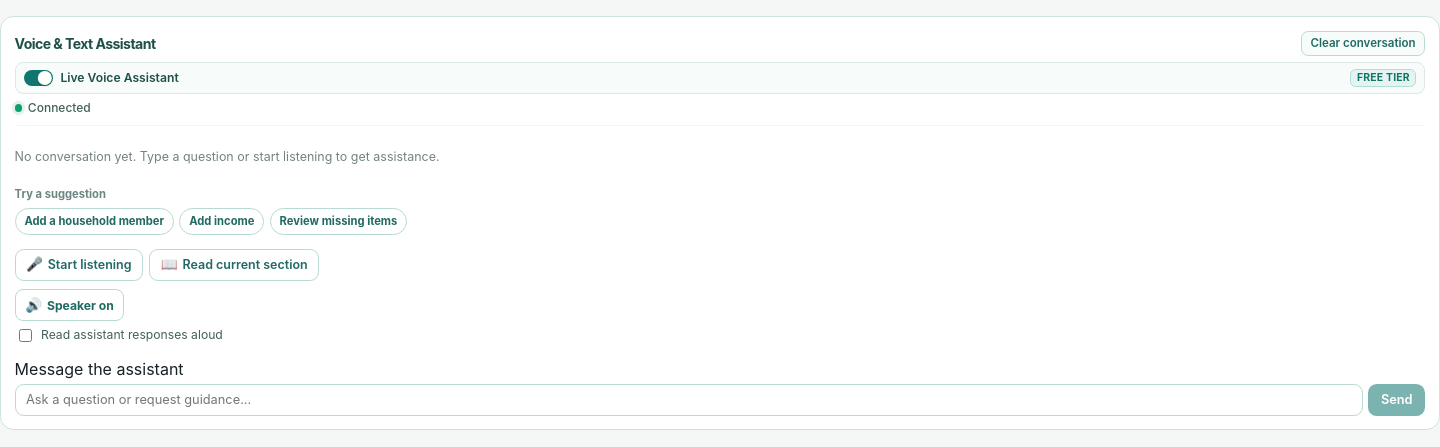
Test: Phase 4 unified assistant panel › reads only the supplied visible section text without sending it as a model message
Click the button "📖 Read current section" at [234, 265], box [149,249,319,281]
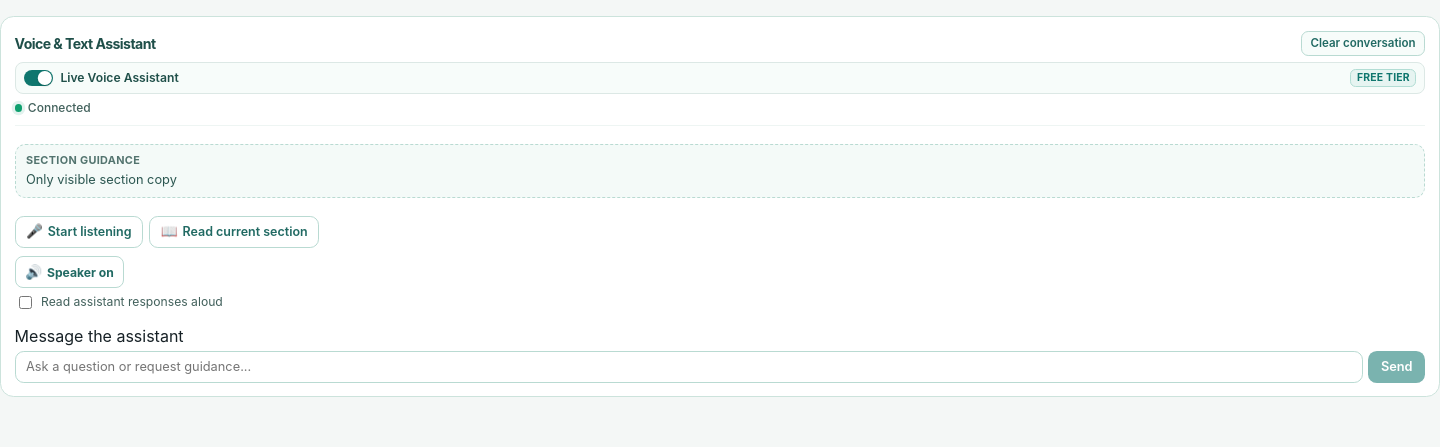
Check: the text "Only visible section copy" is shown, box [26,172,177,187]
